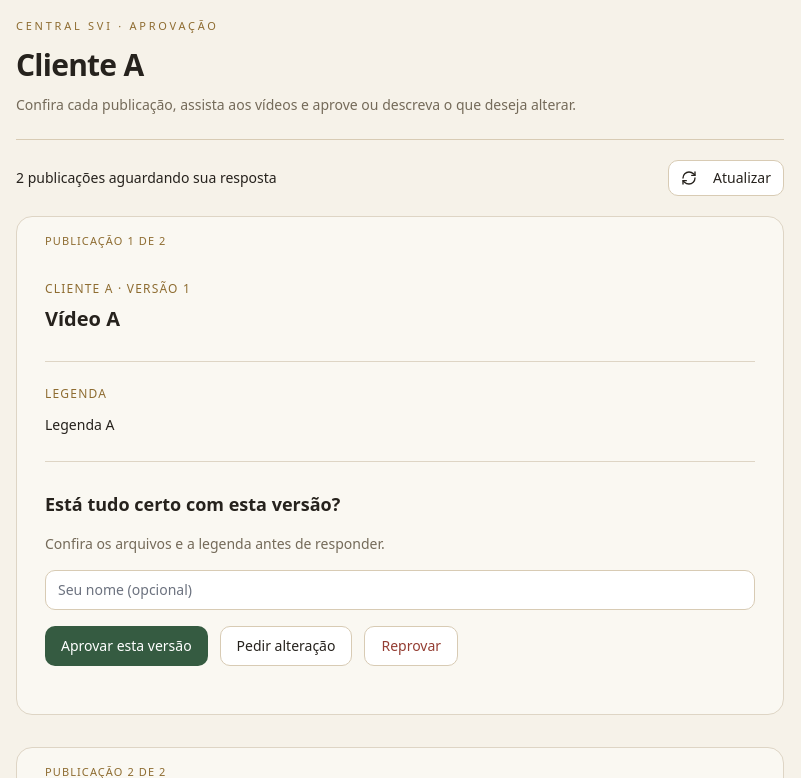
Test: client reviews several pieces on one page › approves only the selected piece and preserves the other pending form
In the field labelled "Seu nome": point(400, 590) [45,570,755,610], type "Maria"
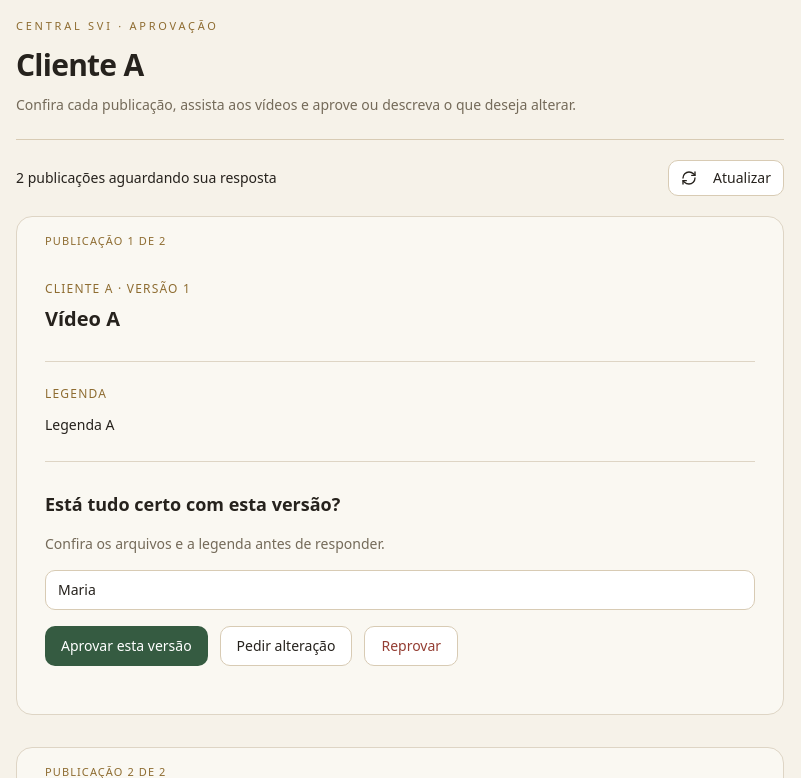
Click the button "Aprovar esta versão": point(126, 646) [45,626,208,666]
(page scrolled)
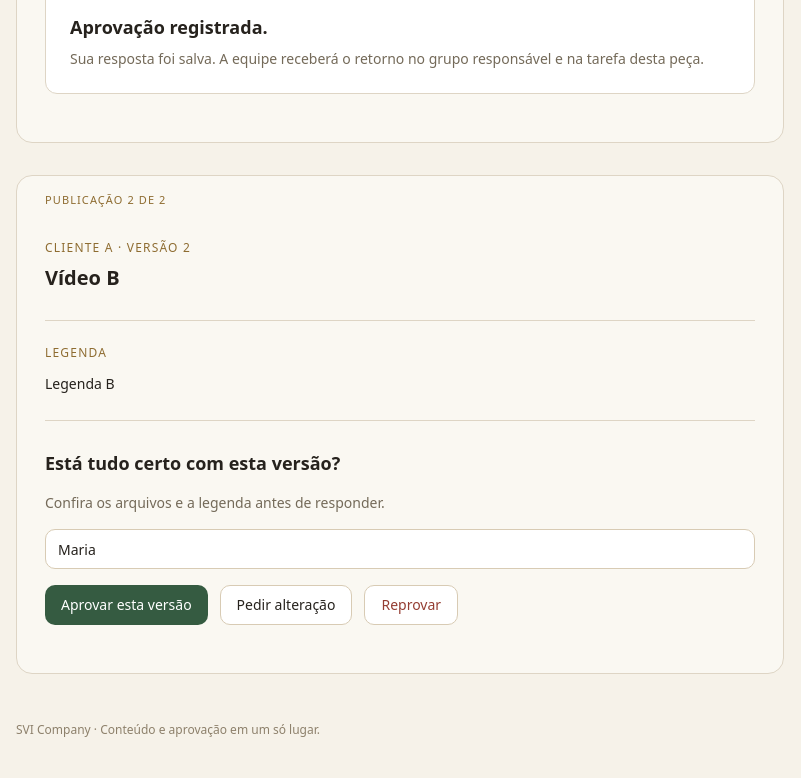
Expected: the button "Aprovar esta versão" is enabled, [45,585,208,625]
Expected: the heading "Aprovação registrada." is shown, [70,15,268,39]
